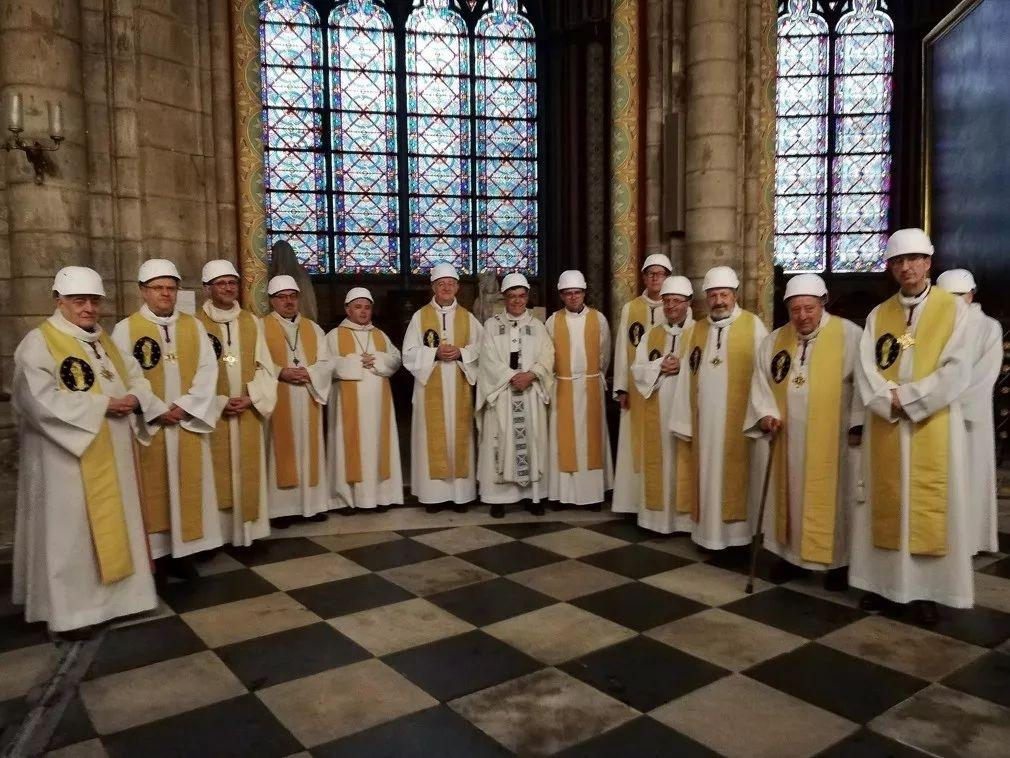helmet: (48, 261, 109, 299), (882, 226, 935, 263), (135, 256, 184, 286), (936, 266, 978, 297), (782, 274, 828, 302), (197, 258, 244, 285), (702, 262, 744, 290), (553, 268, 588, 294), (427, 261, 461, 286), (264, 275, 304, 296), (642, 250, 677, 272), (340, 284, 375, 305), (660, 276, 693, 297), (498, 272, 530, 293)
no_wear: (321, 324, 402, 465), (409, 311, 476, 458), (262, 314, 321, 466)
